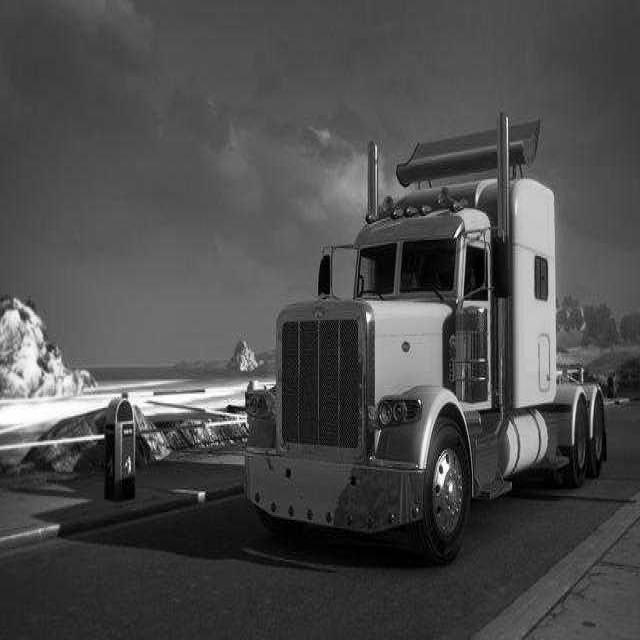Truck: (245, 114, 607, 563)
